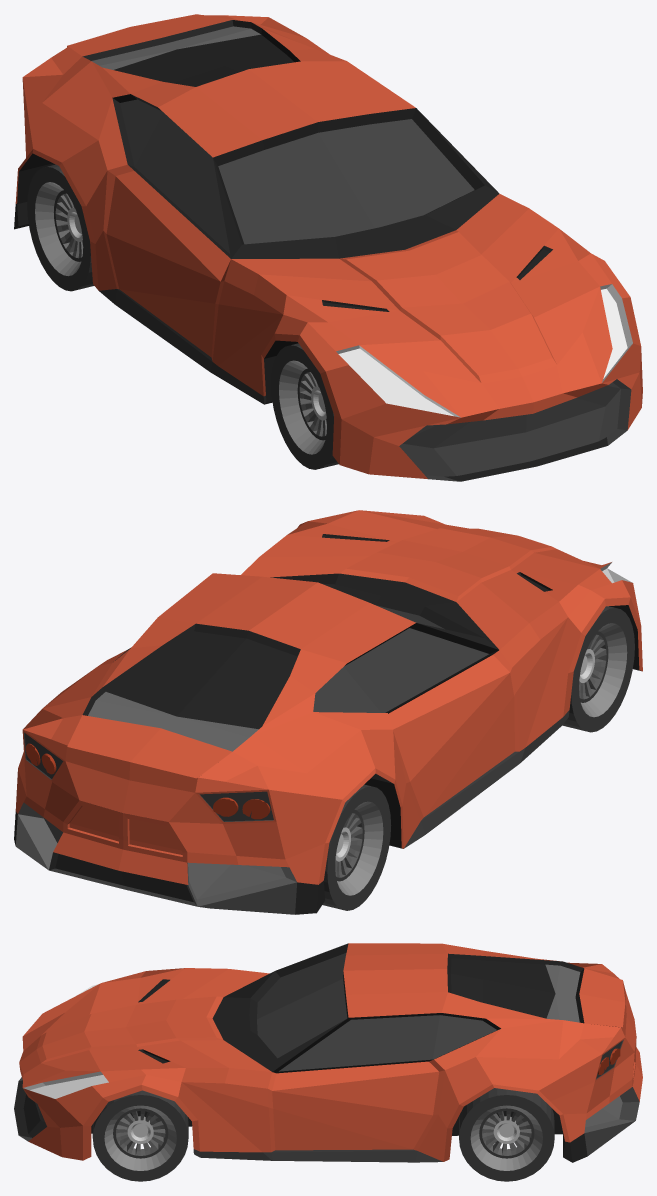
File: ferrari812superfast.fbx
The picture shows the model from 3 angles, top to bottom: view 1: azimuth 30°, elevation 25°; view 2: azimuth 150°, elevation 25°; view 3: azimuth 270°, elevation 25°; orthographic projection. The views are drawn at different scales.
Visible parts, largest first — view 1: RedBody, BackRight, FrontRight; view 2: RedBody, BackRight, FrontRight; view 3: RedBody, BackLeft, FrontLeft.
Boxes of the visible parts, x1,y1,x2,y2 form: RedBody: (14, 14, 642, 481); BackRight: (27, 164, 93, 291); FrontRight: (271, 343, 338, 469); RedBody: (14, 510, 642, 914); BackRight: (322, 784, 391, 910); FrontRight: (562, 606, 634, 732); RedBody: (14, 943, 642, 1162); BackLeft: (459, 1088, 554, 1181); FrontLeft: (92, 1090, 188, 1181).
Bounding box in the file's own units: 2 × 4.6 × 1.27.
